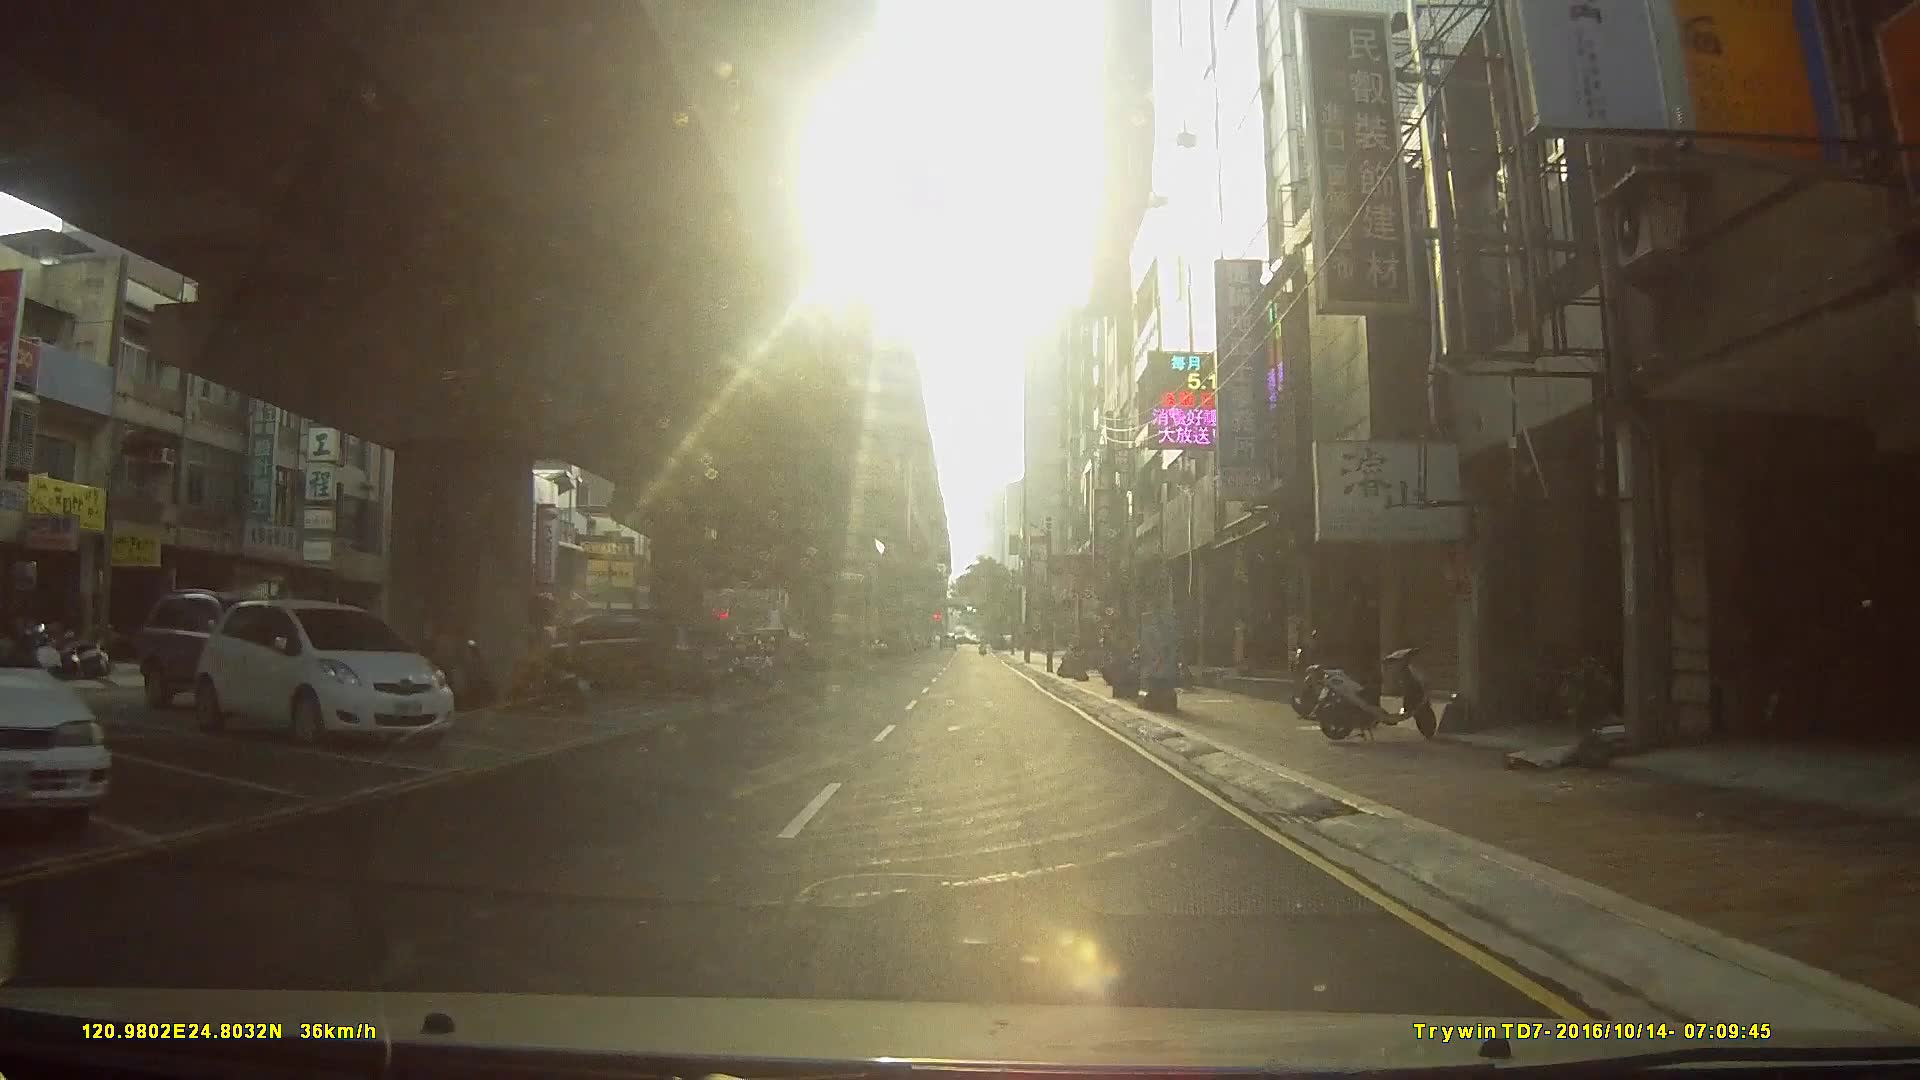vehicle: (191, 599, 456, 752), (0, 616, 111, 843), (135, 589, 298, 705)
